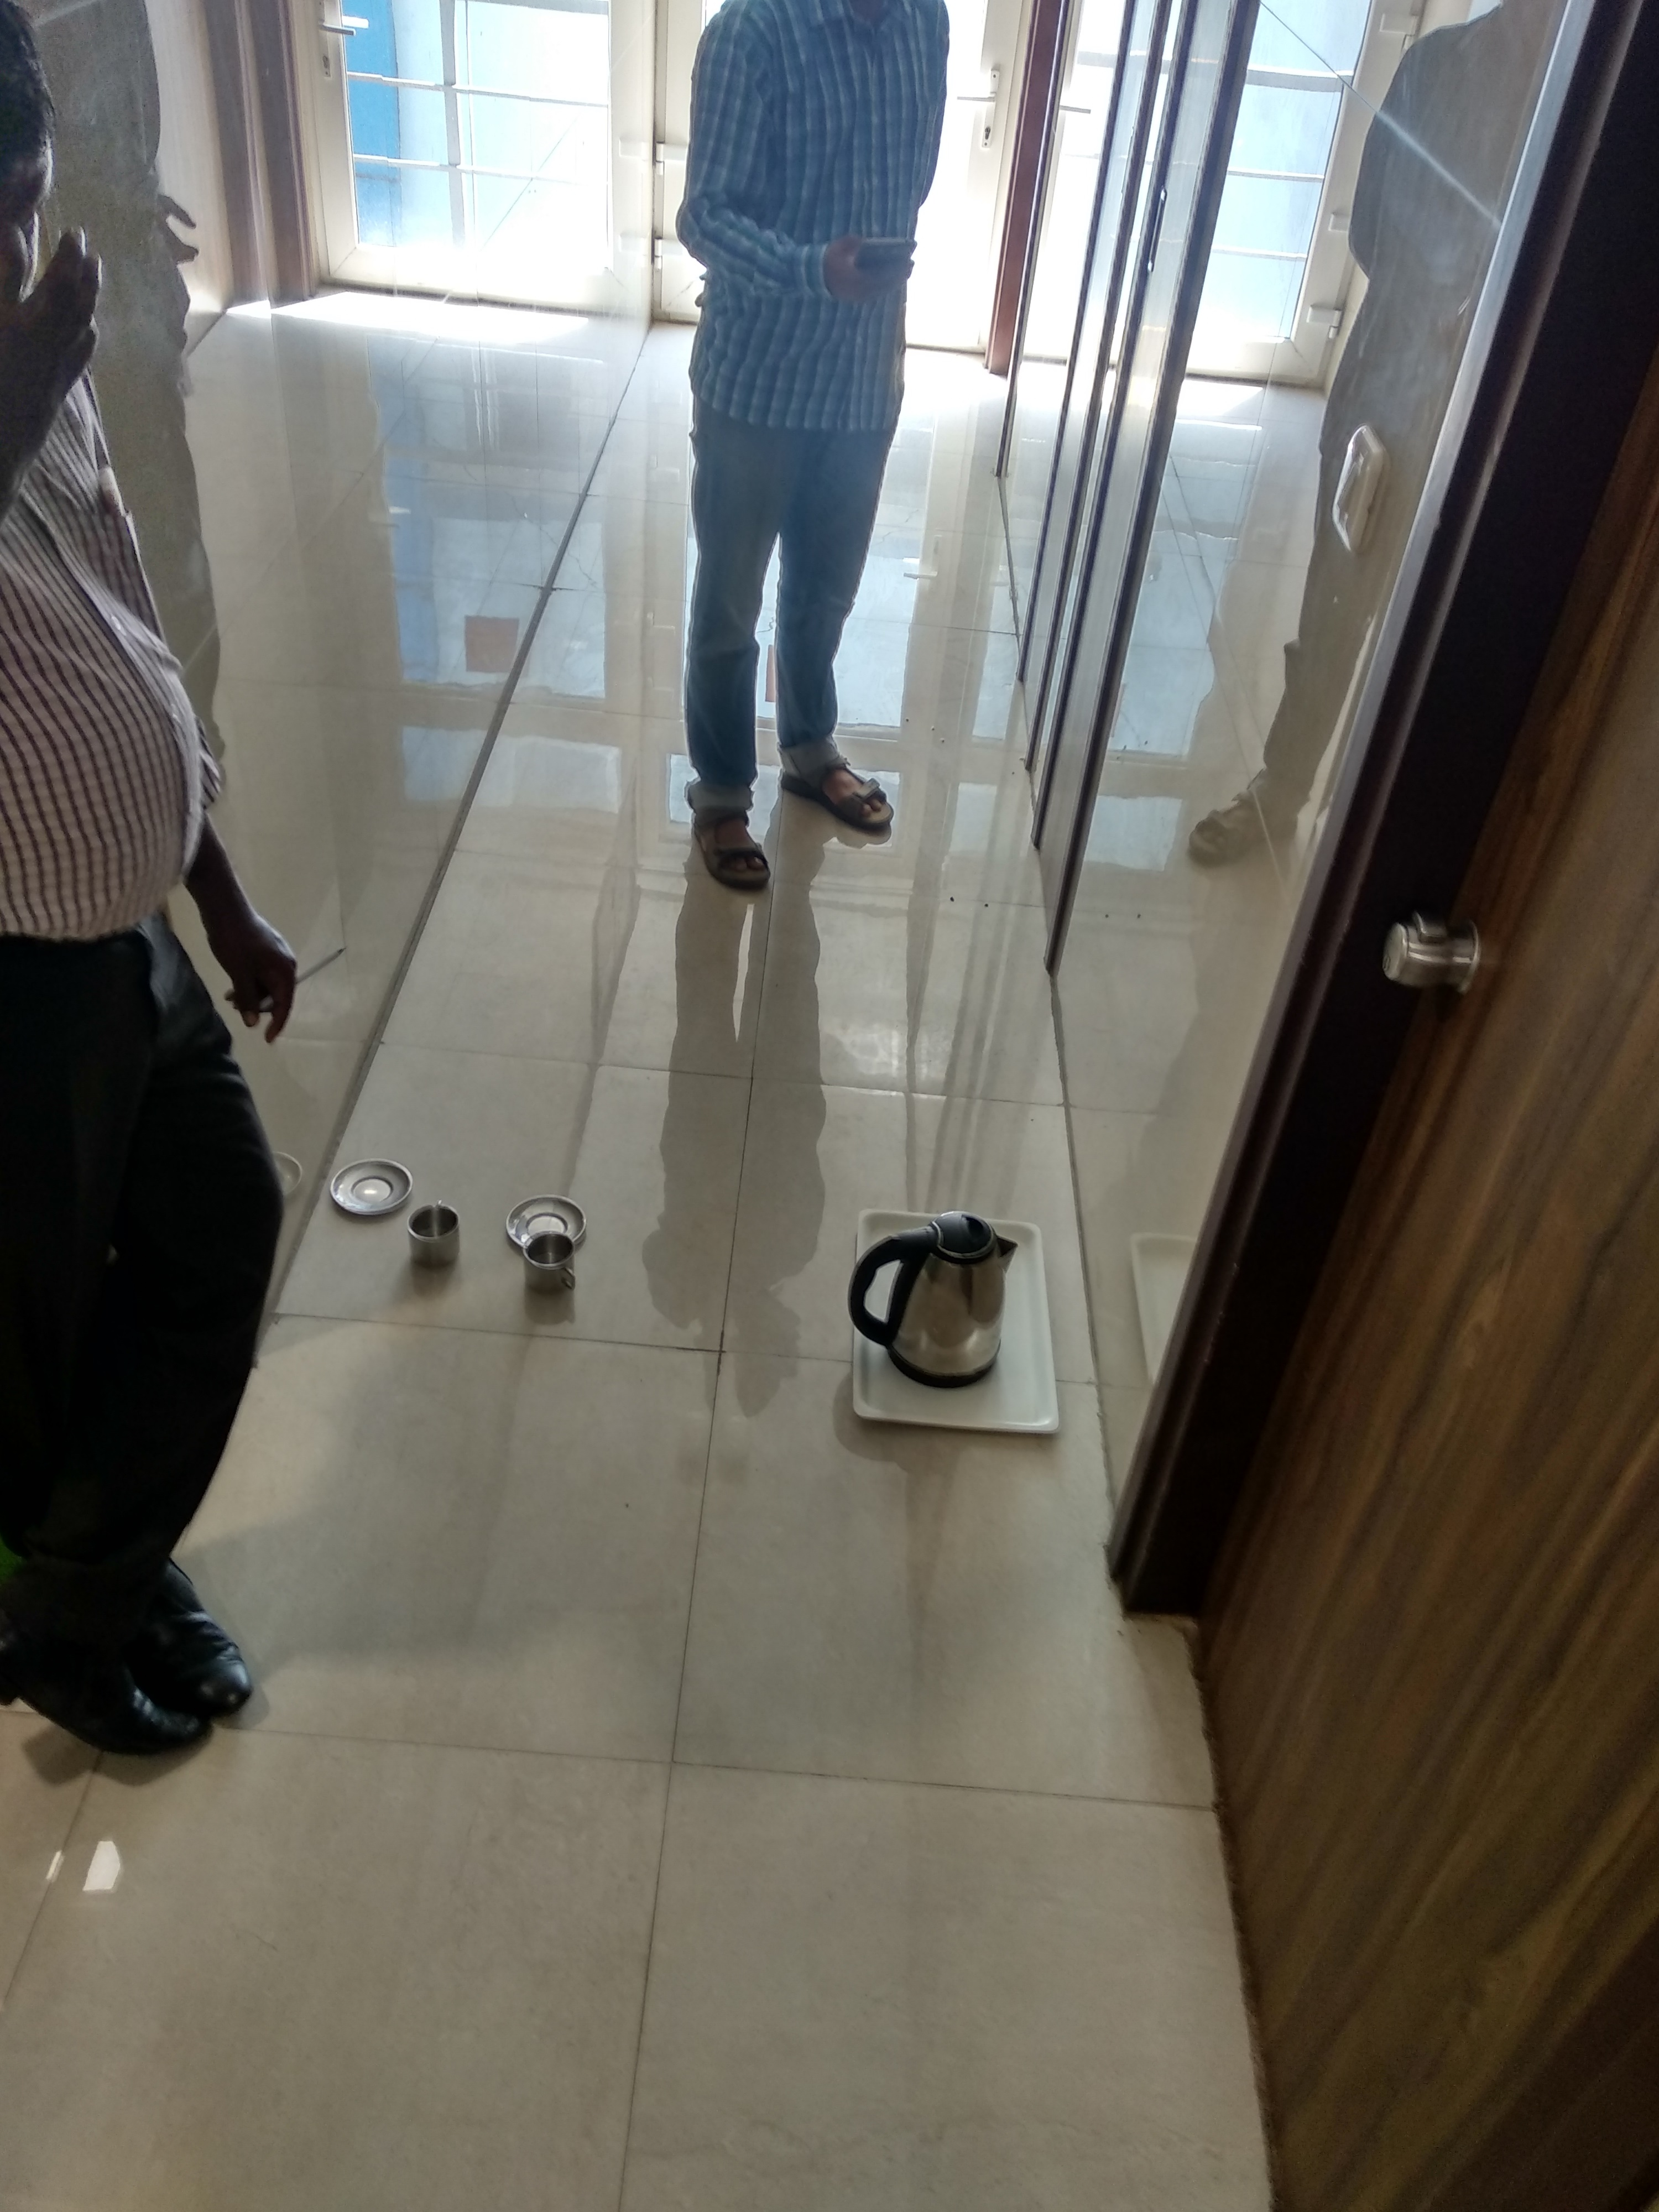CUP: (525, 1240, 579, 1289), (416, 1211, 458, 1271)
FLASK: (868, 1214, 1021, 1385)
